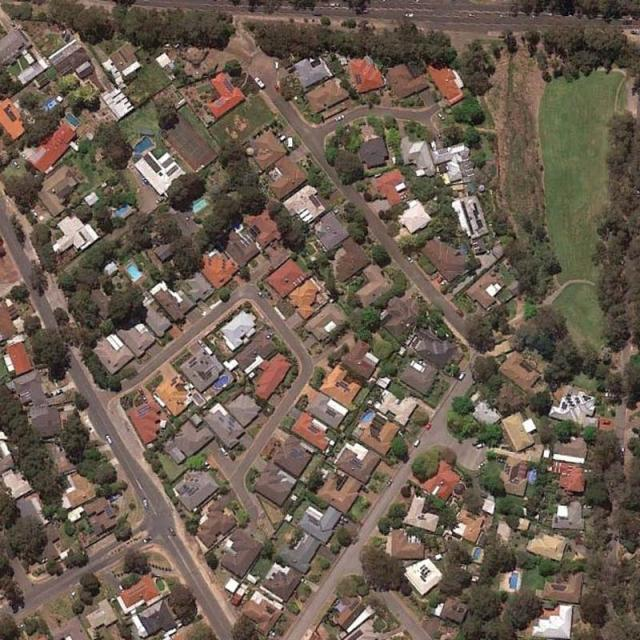vehicle: (254, 75, 265, 89), (168, 526, 177, 538), (105, 434, 114, 445), (142, 534, 153, 543), (142, 498, 149, 511), (437, 112, 446, 122), (274, 58, 280, 73), (13, 160, 21, 170), (154, 196, 165, 203), (414, 438, 421, 449), (458, 370, 466, 379), (269, 630, 278, 638), (405, 254, 414, 262), (330, 1, 340, 8), (340, 516, 350, 523), (476, 442, 486, 449), (69, 592, 76, 601), (54, 388, 63, 395), (257, 291, 266, 298), (600, 418, 610, 424), (266, 331, 274, 338), (426, 422, 433, 430), (331, 209, 340, 215), (335, 115, 344, 121), (478, 461, 486, 467), (440, 279, 446, 287), (275, 83, 280, 92), (387, 479, 393, 486), (405, 13, 413, 18), (302, 577, 307, 584)
